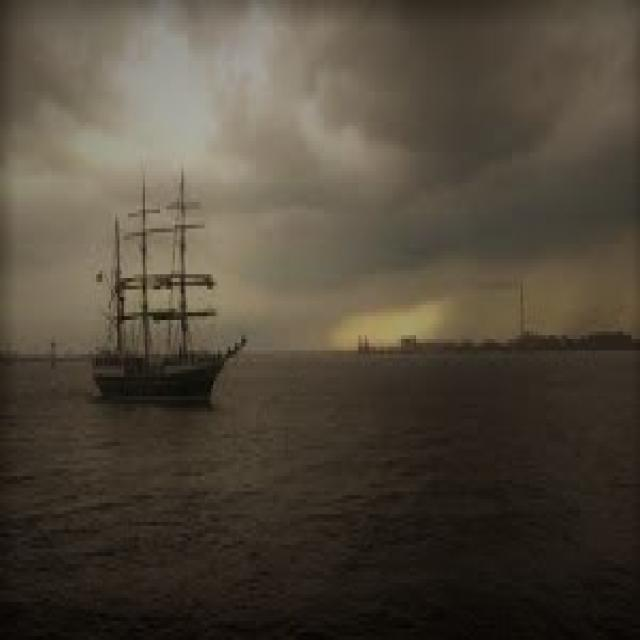fishing boat: (80, 173, 245, 408)
